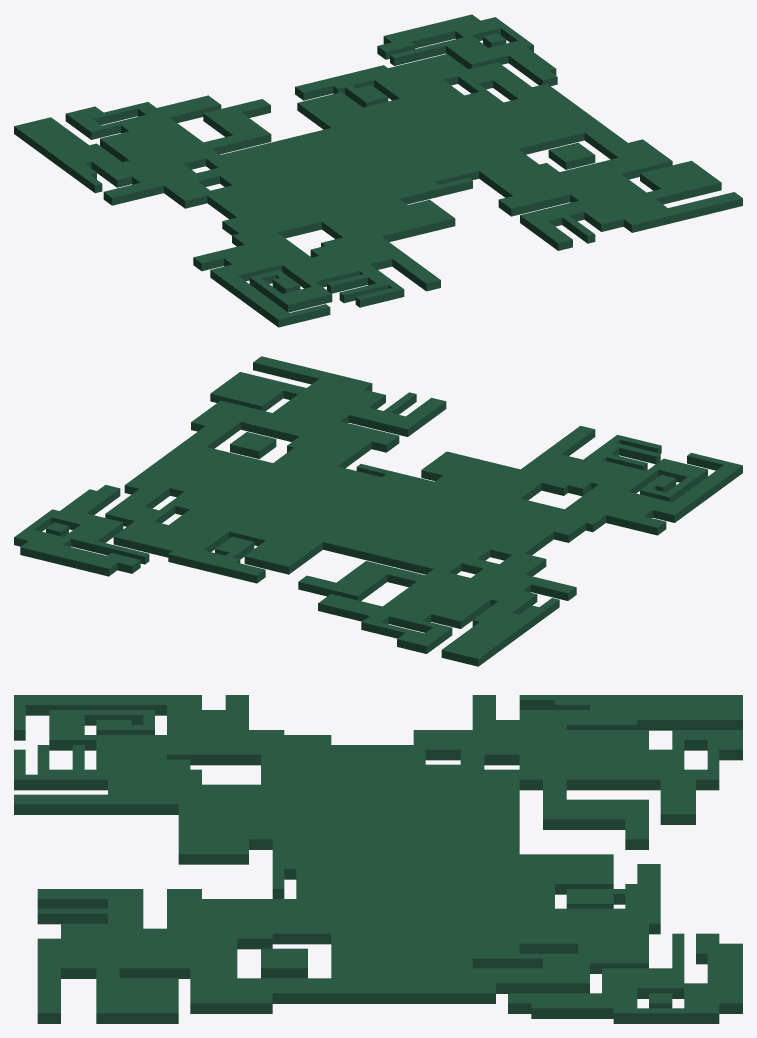
File: grass1.obj
3 renders of one model, top to bottom at view 1: azimuth 30°, elevation 25°; view 2: azimuth 150°, elevation 25°; view 3: azimuth 270°, elevation 25°, orthographic. The views are drawn at different scales.
Bounding box in the file's own units: 6.4 × 0.1 × 6.2.
1 material, 1 textured.
